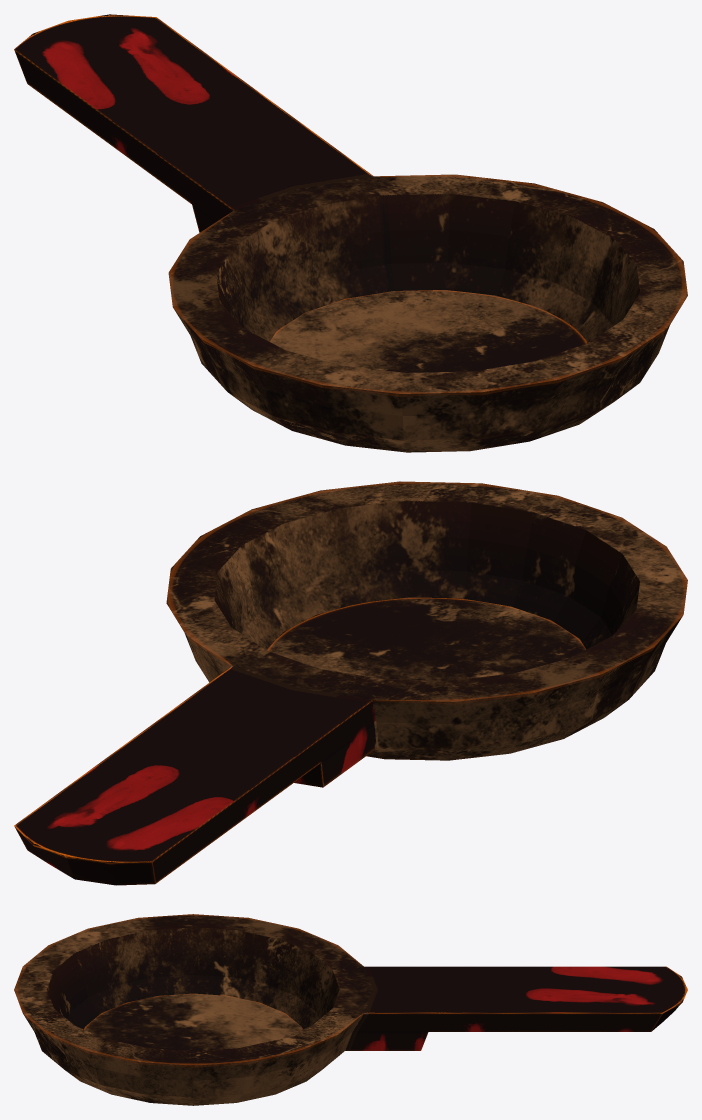
The model's file is SartenFinal.fbx.
3 renders of one model, top to bottom at view 1: azimuth 30°, elevation 25°; view 2: azimuth 150°, elevation 25°; view 3: azimuth 270°, elevation 25°, orthographic. The views are drawn at different scales.
Visible parts, largest first — view 1: lp_sarten; view 2: lp_sarten; view 3: lp_sarten.
Boxes of the visible parts, x1,y1,x2,y2 form: lp_sarten: [14, 14, 687, 452]; lp_sarten: [14, 481, 687, 885]; lp_sarten: [14, 914, 687, 1105].
Bounding box in the file's own units: 2.57 × 0.4542 × 4.82.
1 material, 1 textured.
